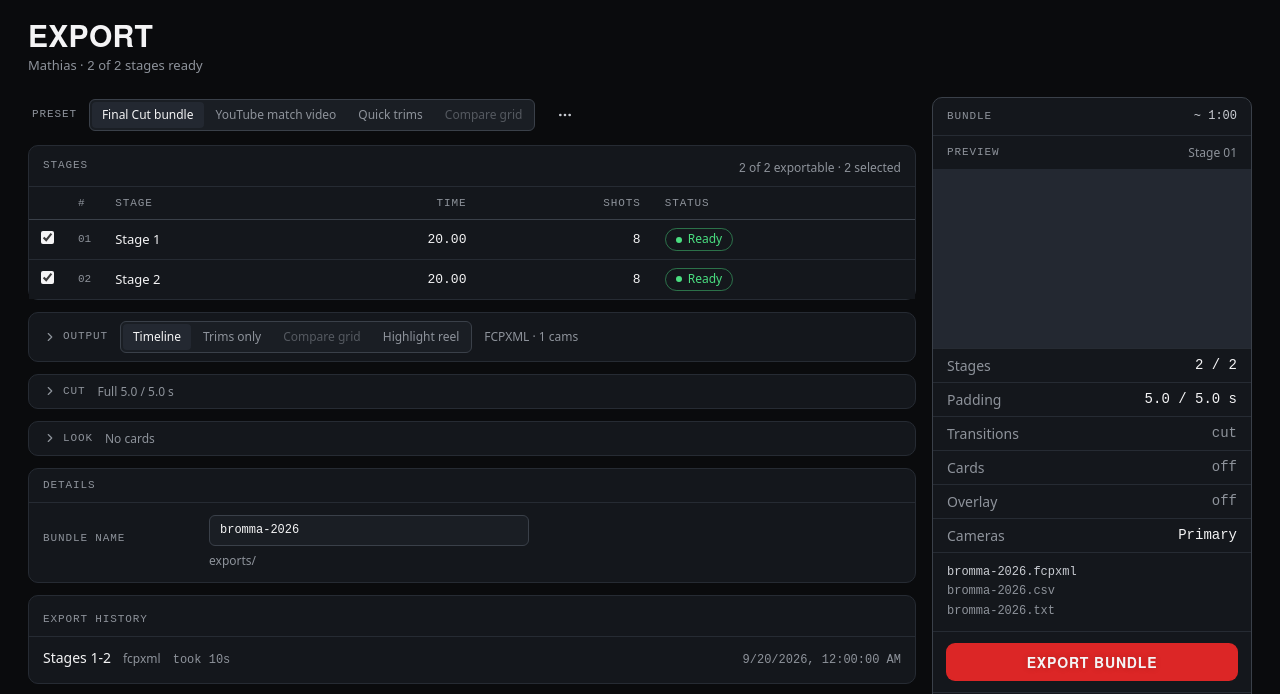
Test: Export presets › editing a field shows Custom, from the preset it started on
The width and height of the screenshot is (1280, 694).
Check: the button "Export bundle" is shown, box [947,644,1237,680]
Check: the checkbox named "Stage 2" is checked, box [41,271,54,284]
Click the button "Cut": (64, 391) [43,383,86,400]
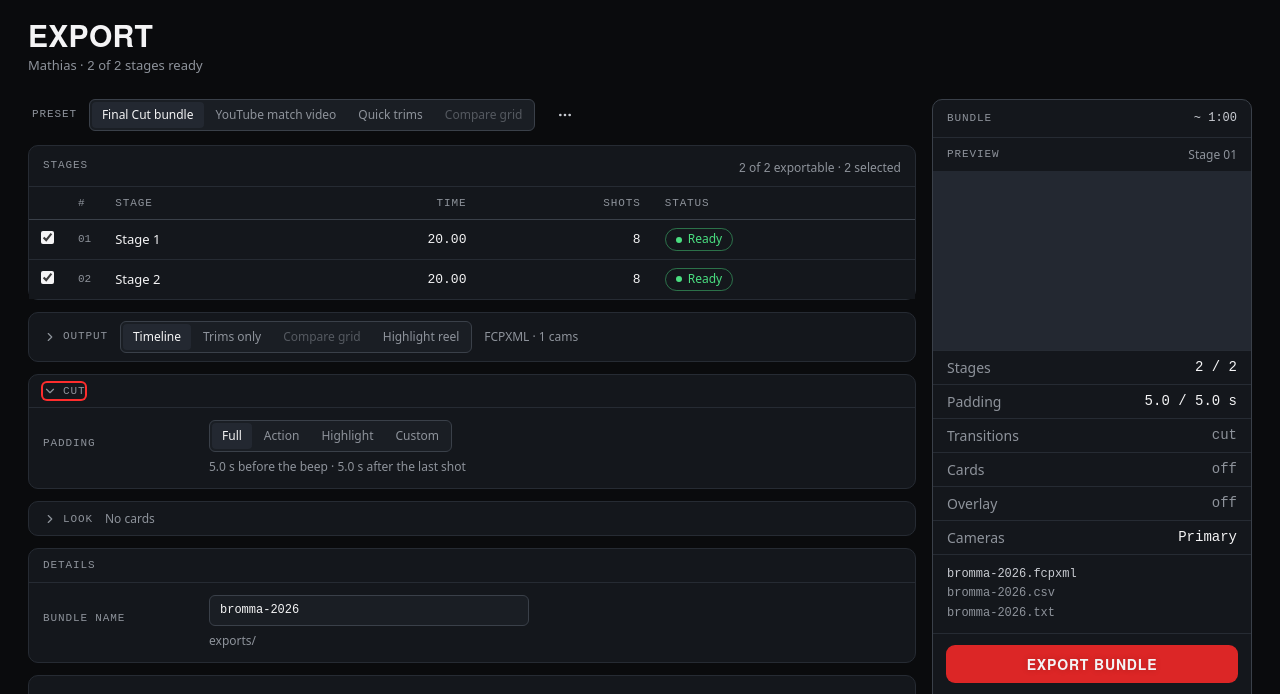
Click the button "Action": (282, 436) [254,423,309,449]
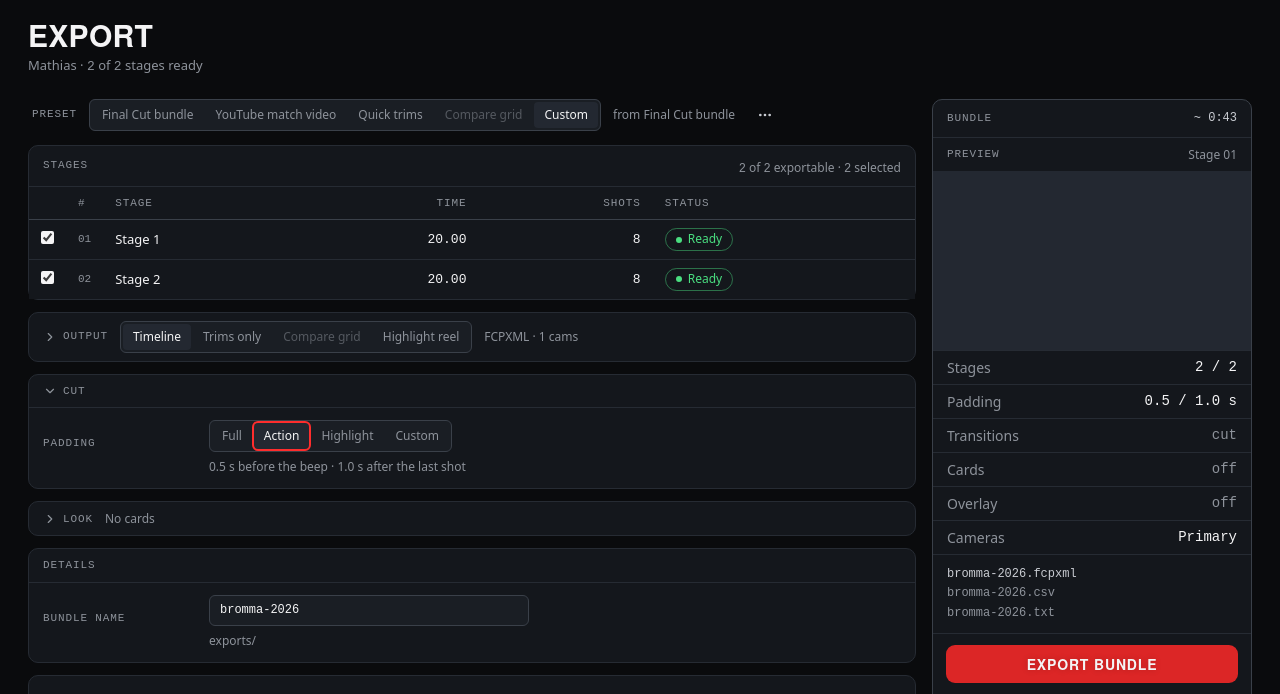
Check: the text "from Final Cut bundle" is shown, box [613,106,735,123]
